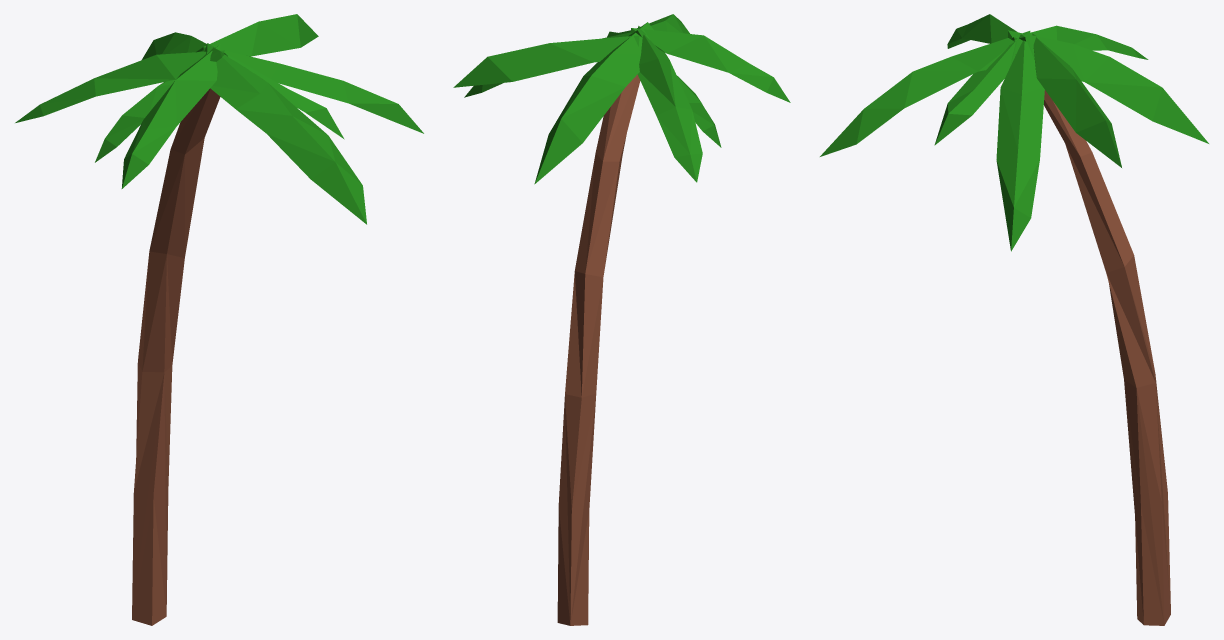
Rendered from Tree_09_summer.fbx.
3 views of the same model, side by side, from view 1: azimuth 30°, elevation 25°; view 2: azimuth 150°, elevation 25°; view 3: azimuth 270°, elevation 25° (orthographic). The views are drawn at different scales.
Visible parts, largest first — view 1: Tree_09_summer; view 2: Tree_09_summer; view 3: Tree_09_summer.
Part boxes in pixels (x1,y1,x2,y2): Tree_09_summer: (15,14,423,625); Tree_09_summer: (453,14,790,625); Tree_09_summer: (820,14,1208,625).
Size of the model in its own units: 128 by 228 by 137.
